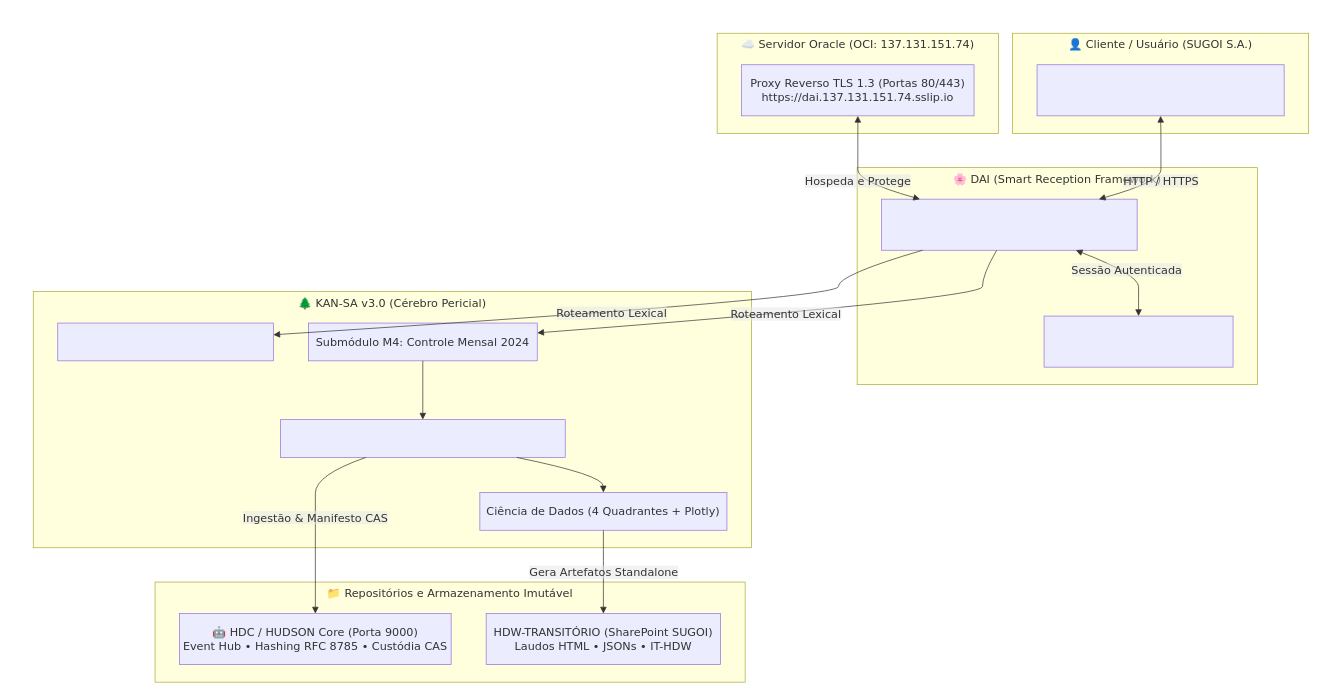
The diagram is 1321 pixels wide and 694 high, and some of its shapes have lost their labels. The centre of each missing label's shape, as x and y in pixels:
Cofre PAM & Sessão RFC 8785 (suporte.ti@sugoisa.com.br): the point at 1138,341
DAI Interface Conversacional (Identity SUGOI • Laranja #F05A22 • Logo): the point at 1009,224
Submódulo M9: Auditoria DFP 2025: the point at 165,341
Test Harness Determinístico (Tolerância R$ 0,00): the point at 422,438
Web Browser / Mobile (http://localhost:8501 ou Oracle HTTPS): the point at 1160,90
